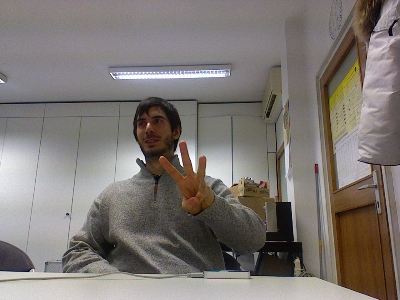三分: (158, 138, 214, 214)
